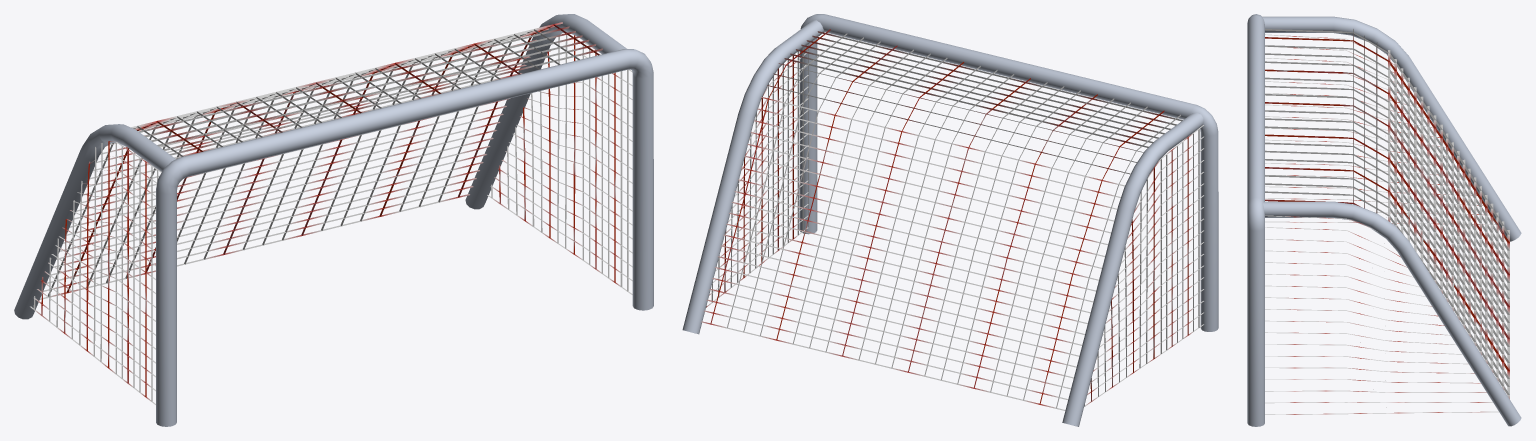
The model's file is Goal.fbx.
3 renders of one model, left to right at view 1: azimuth 30°, elevation 25°; view 2: azimuth 150°, elevation 25°; view 3: azimuth 270°, elevation 25°, orthographic. The views are drawn at different scales.
Parts seen in each view (by area): view 1: Cube.002; view 2: Cube.002; view 3: Cube.002.
Boxes of the visible parts, x1=… form: Cube.002: x1=14, y1=14, x2=653, y2=426; Cube.002: x1=682, y1=14, x2=1218, y2=426; Cube.002: x1=1247, y1=14, x2=1521, y2=426.
Size of the model in its own units: 217 by 113 by 124.
